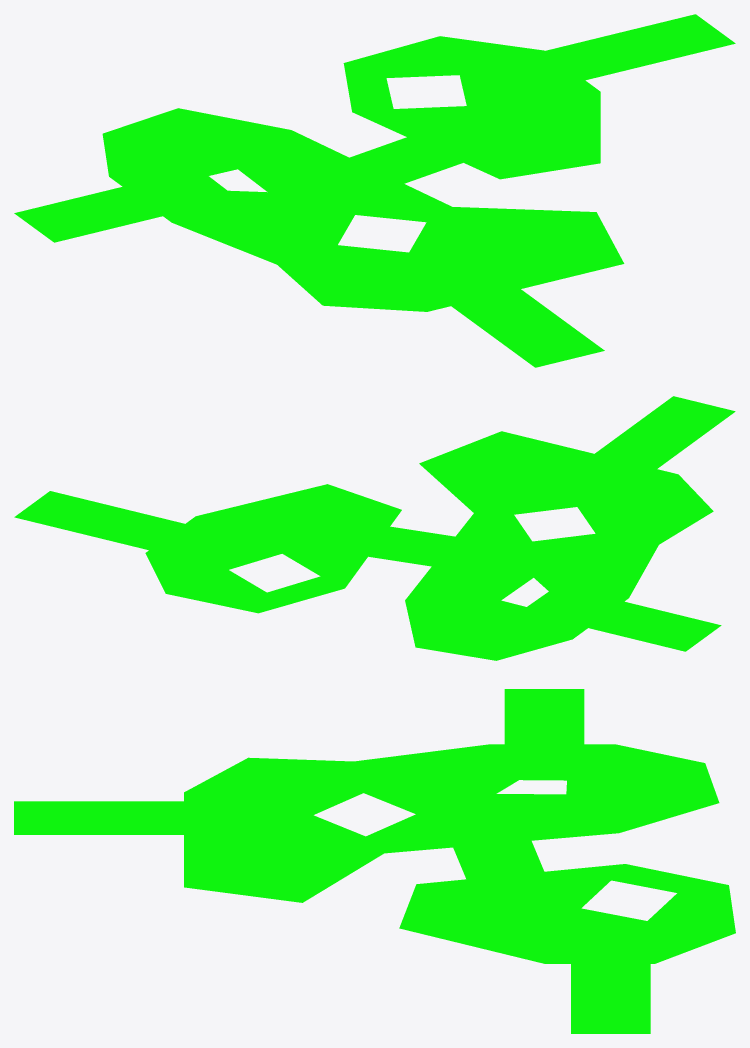
File: s03a_tb3-floor.glb
3 views of the same model, one above another, from view 1: azimuth 30°, elevation 25°; view 2: azimuth 150°, elevation 25°; view 3: azimuth 270°, elevation 25° (orthographic). The views are drawn at different scales.
Parts seen in each view (by area): view 1: collision_floor-colonly; view 2: collision_floor-colonly; view 3: collision_floor-colonly.
Part boxes in pixels (box(x1,y1,x2,y2)): collision_floor-colonly: box(14, 14, 735, 367); collision_floor-colonly: box(14, 396, 735, 660); collision_floor-colonly: box(14, 689, 735, 1033).
Size of the model in its own units: 61.5 by 0.1992 by 54.44.
